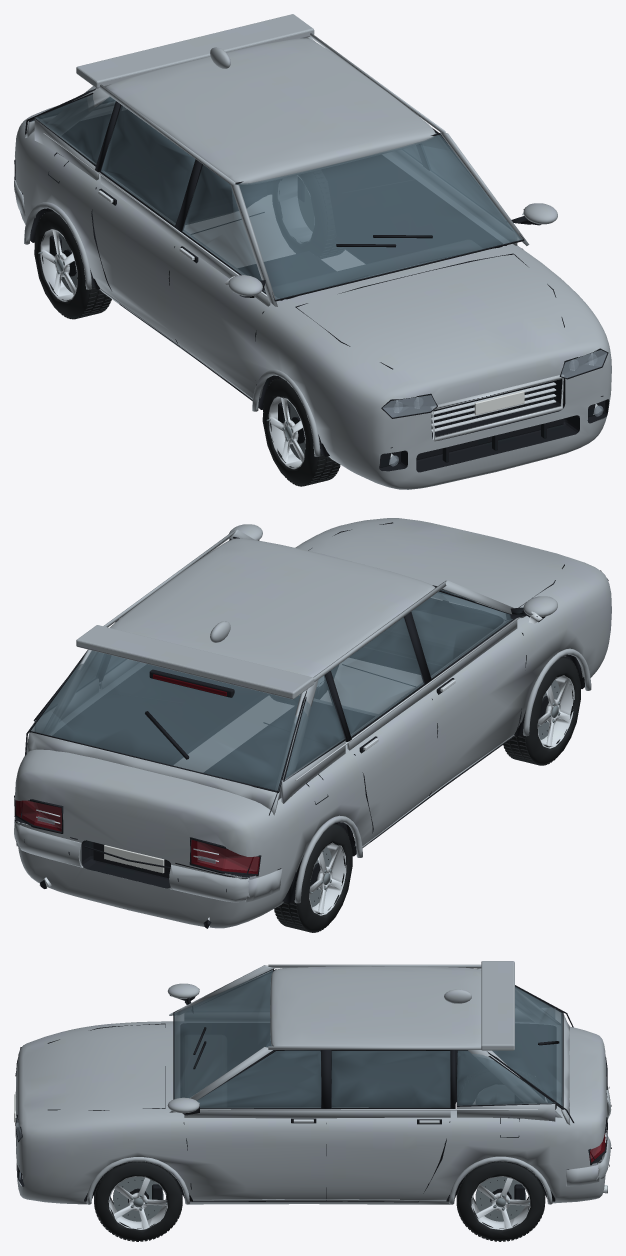
The model's file is car-hatch.glb.
3 views of the same model, one above another, from view 1: azimuth 30°, elevation 25°; view 2: azimuth 150°, elevation 25°; view 3: azimuth 270°, elevation 25° (orthographic). The views are drawn at different scales.
Parts seen in each view (by area): view 1: Aerodynamic mirror painted cap, Front side door glass, Aerodynamic mirror lower housing, Beltline satin bead, 107 reused Sculpted_tyre.001, 107 reused Sculpted_tyre.003, 107 reused Sculpted_tyre.002, Instrument panel, Clear reversing lens insert, 107 reused Alloy_five_spoke_rim.003, 107 reused Alloy_five_spoke_rim.001, 107 reused Alloy_five_spoke_rim.002 (+2 smaller); view 2: Aerodynamic mirror painted cap, Front side door glass, Aerodynamic mirror lower housing, Instrument panel, 107 reused Sculpted_tyre.003, 107 reused Sculpted_tyre.001, Flush corner wrapping ruby lamp lens, Beltline satin bead, 107 reused Alloy_five_spoke_rim.003, 107 reused Alloy_five_spoke_rim.001, Brake rotor hat.003, Front license plate; view 3: Aerodynamic mirror painted cap, Front side door glass, Aerodynamic mirror lower housing, 107 reused Sculpted_tyre.002, 107 reused Sculpted_tyre, Instrument panel, 107 reused Alloy_five_spoke_rim.002, 107 reused Alloy_five_spoke_rim, 107 reused Center_cap.002, 107 reused Center_cap, Beltline satin bead, 107 reused Sculpted_tyre.003 (+2 smaller).
Boxes of the visible parts, x1,y1,x2,y2 form: Aerodynamic mirror painted cap: [14, 14, 611, 489]; Front side door glass: [31, 86, 521, 299]; Aerodynamic mirror lower housing: [21, 88, 609, 472]; Beltline satin bead: [43, 132, 601, 464]; 107 reused Sculpted_tyre.001: [262, 377, 340, 486]; 107 reused Sculpted_tyre.003: [34, 210, 111, 319]; 107 reused Sculpted_tyre.002: [272, 170, 344, 258]; Instrument panel: [272, 240, 482, 299]; Clear reversing lens insert: [381, 350, 607, 466]; 107 reused Alloy_five_spoke_rim.003: [40, 229, 77, 301]; 107 reused Alloy_five_spoke_rim.001: [268, 396, 305, 469]; 107 reused Alloy_five_spoke_rim.002: [278, 175, 312, 243]; Aerodynamic mirror painted cap: [14, 518, 611, 928]; Front side door glass: [30, 589, 512, 790]; Aerodynamic mirror lower housing: [15, 522, 584, 928]; Instrument panel: [364, 610, 492, 666]; 107 reused Sculpted_tyre.003: [274, 823, 352, 932]; 107 reused Sculpted_tyre.001: [503, 656, 580, 765]; Flush corner wrapping ruby lamp lens: [15, 674, 259, 873]; Beltline satin bead: [21, 611, 542, 927]; 107 reused Alloy_five_spoke_rim.003: [309, 842, 346, 915]; 107 reused Alloy_five_spoke_rim.001: [537, 675, 574, 748]; Brake rotor hat.003: [189, 612, 431, 901]; Front license plate: [104, 845, 164, 873]; Aerodynamic mirror painted cap: [15, 961, 611, 1204]; Front side door glass: [174, 969, 562, 1108]; Aerodynamic mirror lower housing: [15, 968, 611, 1202]; 107 reused Sculpted_tyre.002: [456, 1161, 545, 1241]; 107 reused Sculpted_tyre: [94, 1161, 182, 1241]; Instrument panel: [183, 1035, 226, 1106]; 107 reused Alloy_five_spoke_rim.002: [471, 1176, 530, 1229]; 107 reused Alloy_five_spoke_rim: [108, 1176, 167, 1229]; 107 reused Center_cap.002: [475, 1177, 529, 1221]; 107 reused Center_cap: [113, 1177, 166, 1221]; Beltline satin bead: [15, 988, 607, 1193]; 107 reused Sculpted_tyre.003: [456, 1068, 544, 1108].
Bounding box in the file's own units: 2.11 × 1.59 × 4.26.
Materials: 10 (10 with a texture image).
